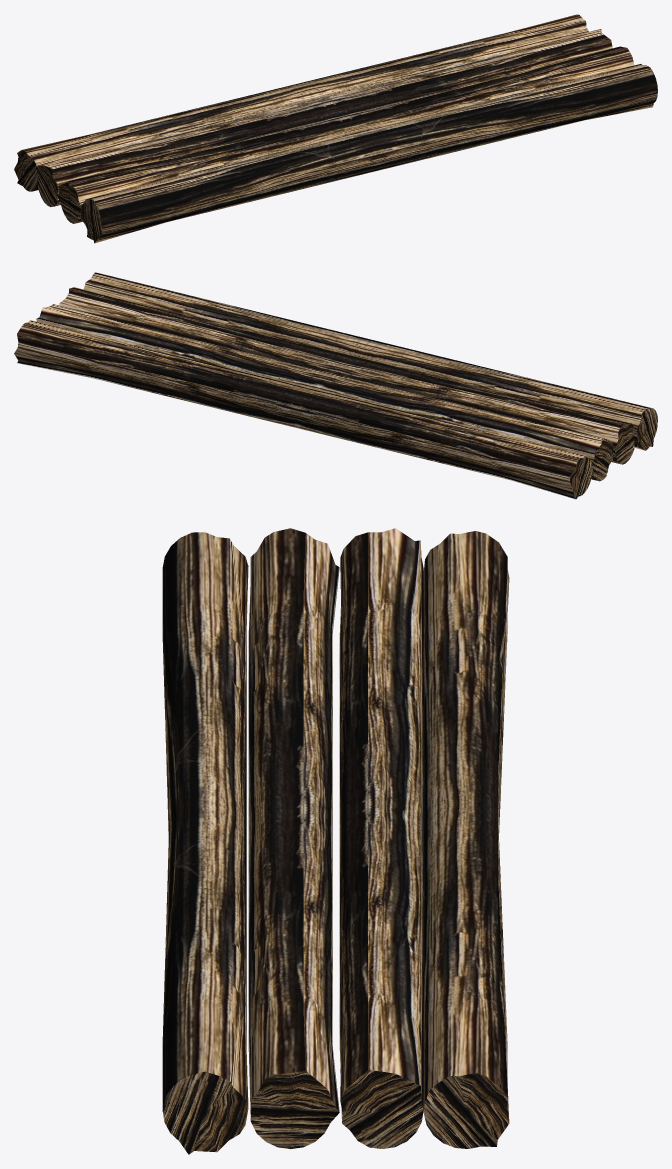
File: woodBridge.fbx
3 renders of one model, top to bottom at view 1: azimuth 30°, elevation 25°; view 2: azimuth 150°, elevation 25°; view 3: azimuth 270°, elevation 25°, orthographic. The views are drawn at different scales.
Parts seen in each view (by area): view 1: polySurface1; view 2: polySurface1; view 3: polySurface1.
Part boxes in pixels (box(x1,y1,x2,y2)): polySurface1: box(14, 14, 657, 243); polySurface1: box(14, 272, 657, 499); polySurface1: box(162, 528, 509, 1154).
Bounding box in the file's own units: 604 × 42.04 × 162.
Materials: 1 (1 with a texture image).
